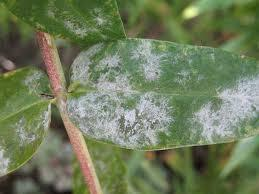powdery_mildew: (39, 28, 258, 162)
